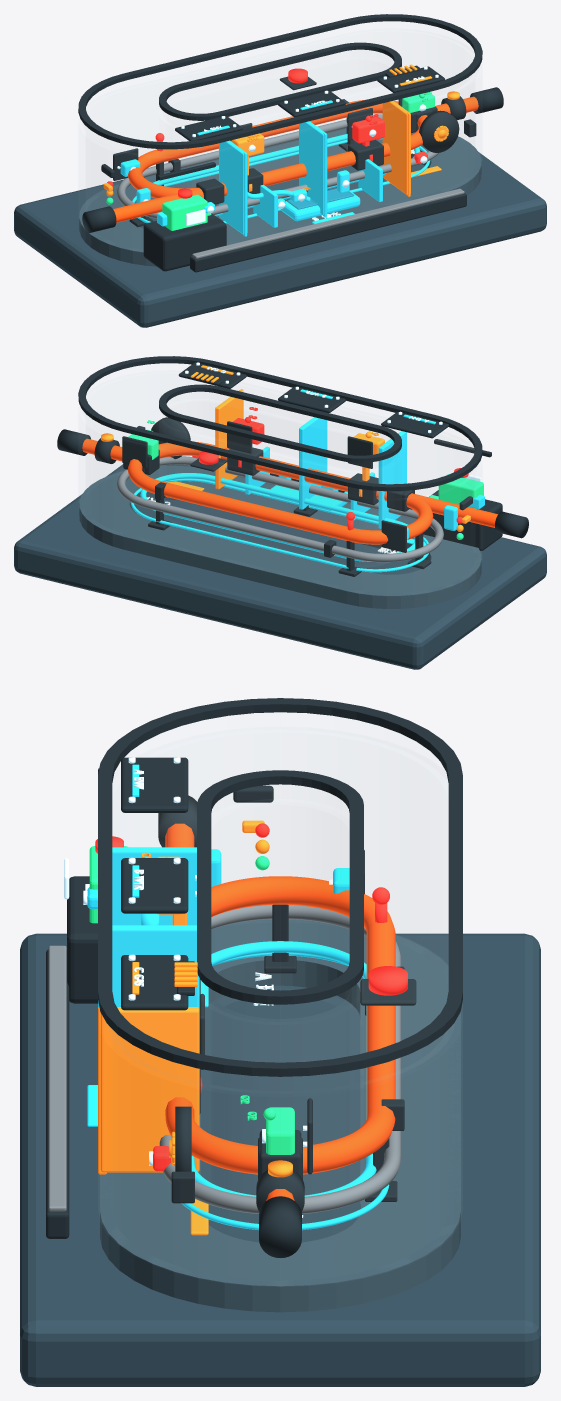
The model's file is utility-tunnel-ring-v01.glb.
3 renders of one model, top to bottom at view 1: azimuth 30°, elevation 25°; view 2: azimuth 150°, elevation 25°; view 3: azimuth 270°, elevation 25°, orthographic. The views are drawn at different scales.
Visible parts, largest first — view 1: MESH_BASE_01, MESH_RING_FLOOR, MESH_RING_OUTER_RAIL, MESH_RING_INNER_RAIL, MESH_CABLE_DUCT_01, MESH_PIPE_G01, MESH_CTRL_DRY_BAY, MESH_PIPE_UTILITY_01, GEO_ZONE_A_RIB, GEO_ZONE_C_RIB, GEO_ZONE_B_RIB, GEO_CABLE_DUCT_COVER (+20 smaller); view 2: MESH_BASE_01, MESH_RING_FLOOR, MESH_RING_OUTER_RAIL, MESH_PIPE_G01, MESH_PIPE_UTILITY_01, MESH_RING_INNER_RAIL, MESH_PIPE_UTILITY_02, MESH_LED_RING, GEO_ZONE_B_RIB, MESH_CTRL_DRY_BAY, GEO_ZONE_A_RIB, GEO_ZONE_C_RIB (+17 smaller); view 3: MESH_BASE_01, MESH_RING_FLOOR, MESH_RING_OUTER_RAIL, MESH_PIPE_G01, GEO_ZONE_C_RIB, MESH_RING_INNER_RAIL, MESH_PIPE_UTILITY_01, GEO_CABLE_DUCT_COVER, MESH_ROOF_HATCH_B, MESH_ROOF_HATCH_A, MESH_CTRL_DRY_BAY, GEO_ZONE_B_RIB (+12 smaller).
Boxes of the visible parts, <box> form: MESH_BASE_01: <box>14,128,546,327</box>; MESH_RING_FLOOR: <box>79,128,481,266</box>; MESH_RING_OUTER_RAIL: <box>78,14,482,149</box>; MESH_RING_INNER_RAIL: <box>159,42,401,120</box>; MESH_CABLE_DUCT_01: <box>190,193,466,272</box>; MESH_PIPE_G01: <box>128,99,427,198</box>; MESH_CTRL_DRY_BAY: <box>143,213,226,271</box>; MESH_PIPE_UTILITY_01: <box>117,114,439,218</box>; GEO_ZONE_A_RIB: <box>219,140,247,234</box>; GEO_ZONE_C_RIB: <box>382,100,410,194</box>; GEO_ZONE_B_RIB: <box>299,121,327,215</box>; GEO_CABLE_DUCT_COVER: <box>192,188,464,258</box>; MESH_BASE_01: <box>14,464,546,669</box>; MESH_RING_FLOOR: <box>79,465,481,608</box>; MESH_RING_OUTER_RAIL: <box>78,356,482,491</box>; MESH_PIPE_G01: <box>127,441,433,544</box>; MESH_PIPE_UTILITY_01: <box>117,456,443,562</box>; MESH_RING_INNER_RAIL: <box>159,384,401,462</box>; MESH_PIPE_UTILITY_02: <box>140,473,415,561</box>; MESH_LED_RING: <box>130,478,428,572</box>; GEO_ZONE_B_RIB: <box>299,417,327,509</box>; MESH_CTRL_DRY_BAY: <box>423,490,502,550</box>; GEO_ZONE_A_RIB: <box>378,431,406,528</box>; GEO_ZONE_C_RIB: <box>215,390,243,489</box>; MESH_BASE_01: <box>20,933,540,1386</box>; MESH_RING_FLOOR: <box>100,919,460,1312</box>; MESH_RING_OUTER_RAIL: <box>98,698,462,1076</box>; MESH_PIPE_G01: <box>165,876,395,1174</box>; GEO_ZONE_C_RIB: <box>100,1007,199,1172</box>; MESH_RING_INNER_RAIL: <box>197,770,363,1004</box>; MESH_PIPE_UTILITY_01: <box>159,905,401,1213</box>; GEO_CABLE_DUCT_COVER: <box>48,945,66,1211</box>; MESH_ROOF_HATCH_B: <box>121,858,188,913</box>; MESH_ROOF_HATCH_A: <box>121,757,188,812</box>; MESH_CTRL_DRY_BAY: <box>67,876,97,1003</box>; GEO_ZONE_B_RIB: <box>112,925,199,1008</box>.
Size of the model in its own units: 1.12 by 0.389 by 0.58.
